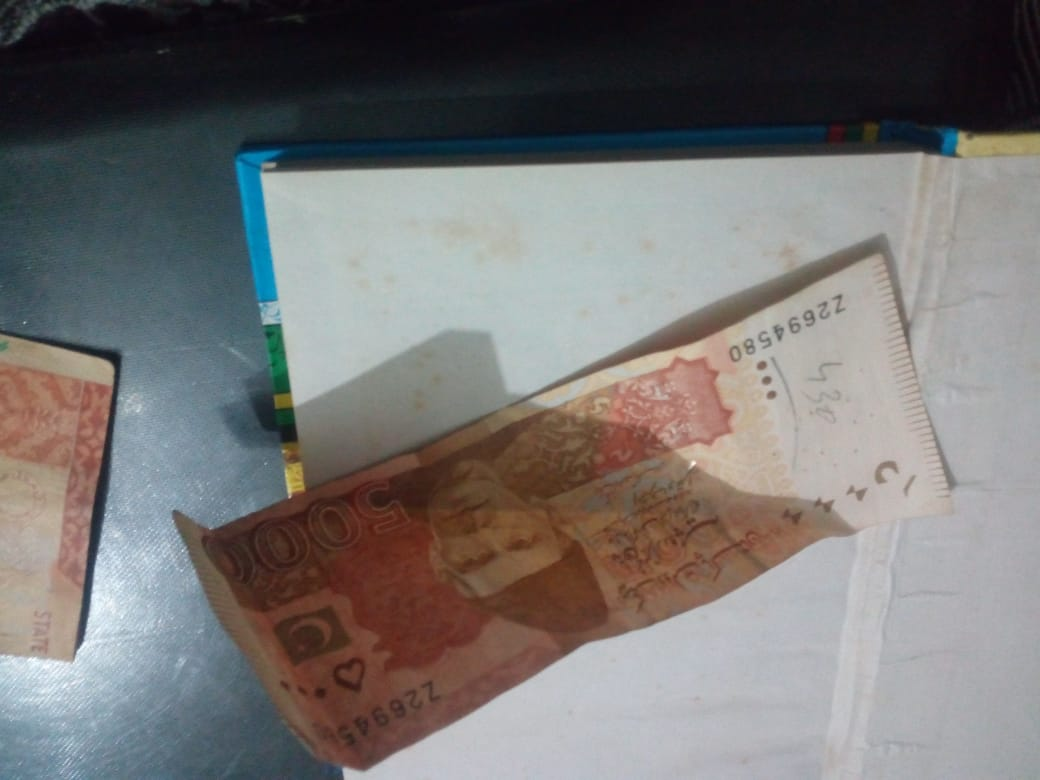5000 rupee: (165, 241, 913, 737)
